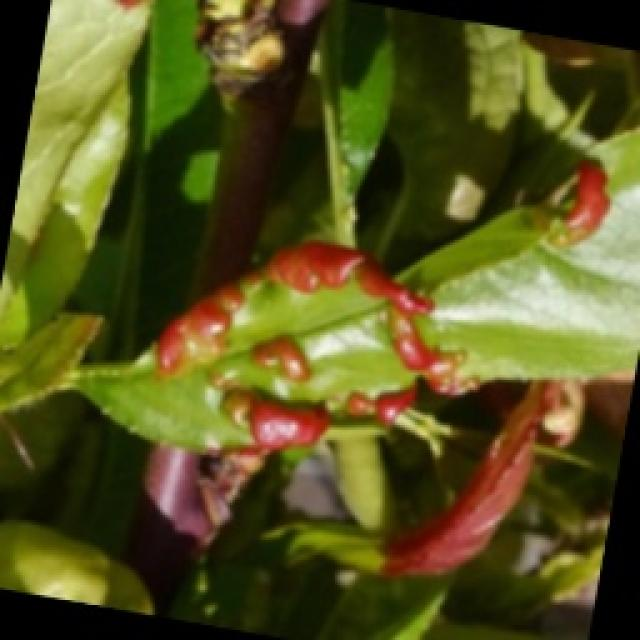peach_leaf_curl: (98, 224, 634, 570)
